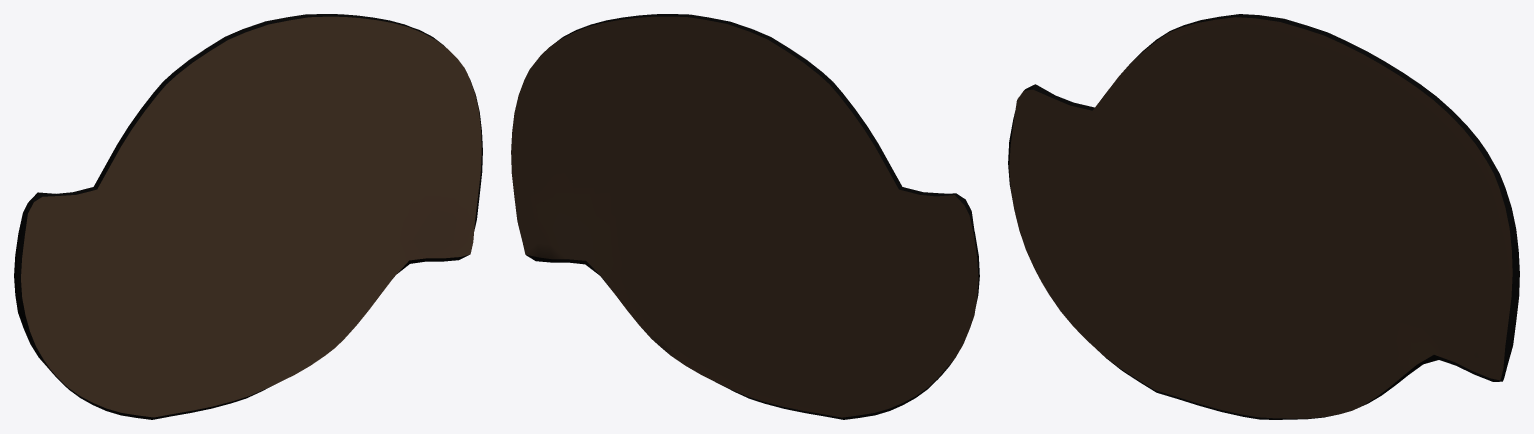
File: floor.fbx
The picture shows the model from 3 angles, left to right: view 1: azimuth 30°, elevation 25°; view 2: azimuth 150°, elevation 25°; view 3: azimuth 330°, elevation 25°; orthographic projection. The views are drawn at different scales.
Visible parts, largest first — view 1: Cylinder.002; view 2: Cylinder.002; view 3: Cylinder.002.
Boxes of the visible parts, <box> form: Cylinder.002: <box>14,14,482,419</box>; Cylinder.002: <box>511,14,979,419</box>; Cylinder.002: <box>1008,14,1519,419</box>.
Size of the model in its own units: 43.34 by 2132 by 2798.
